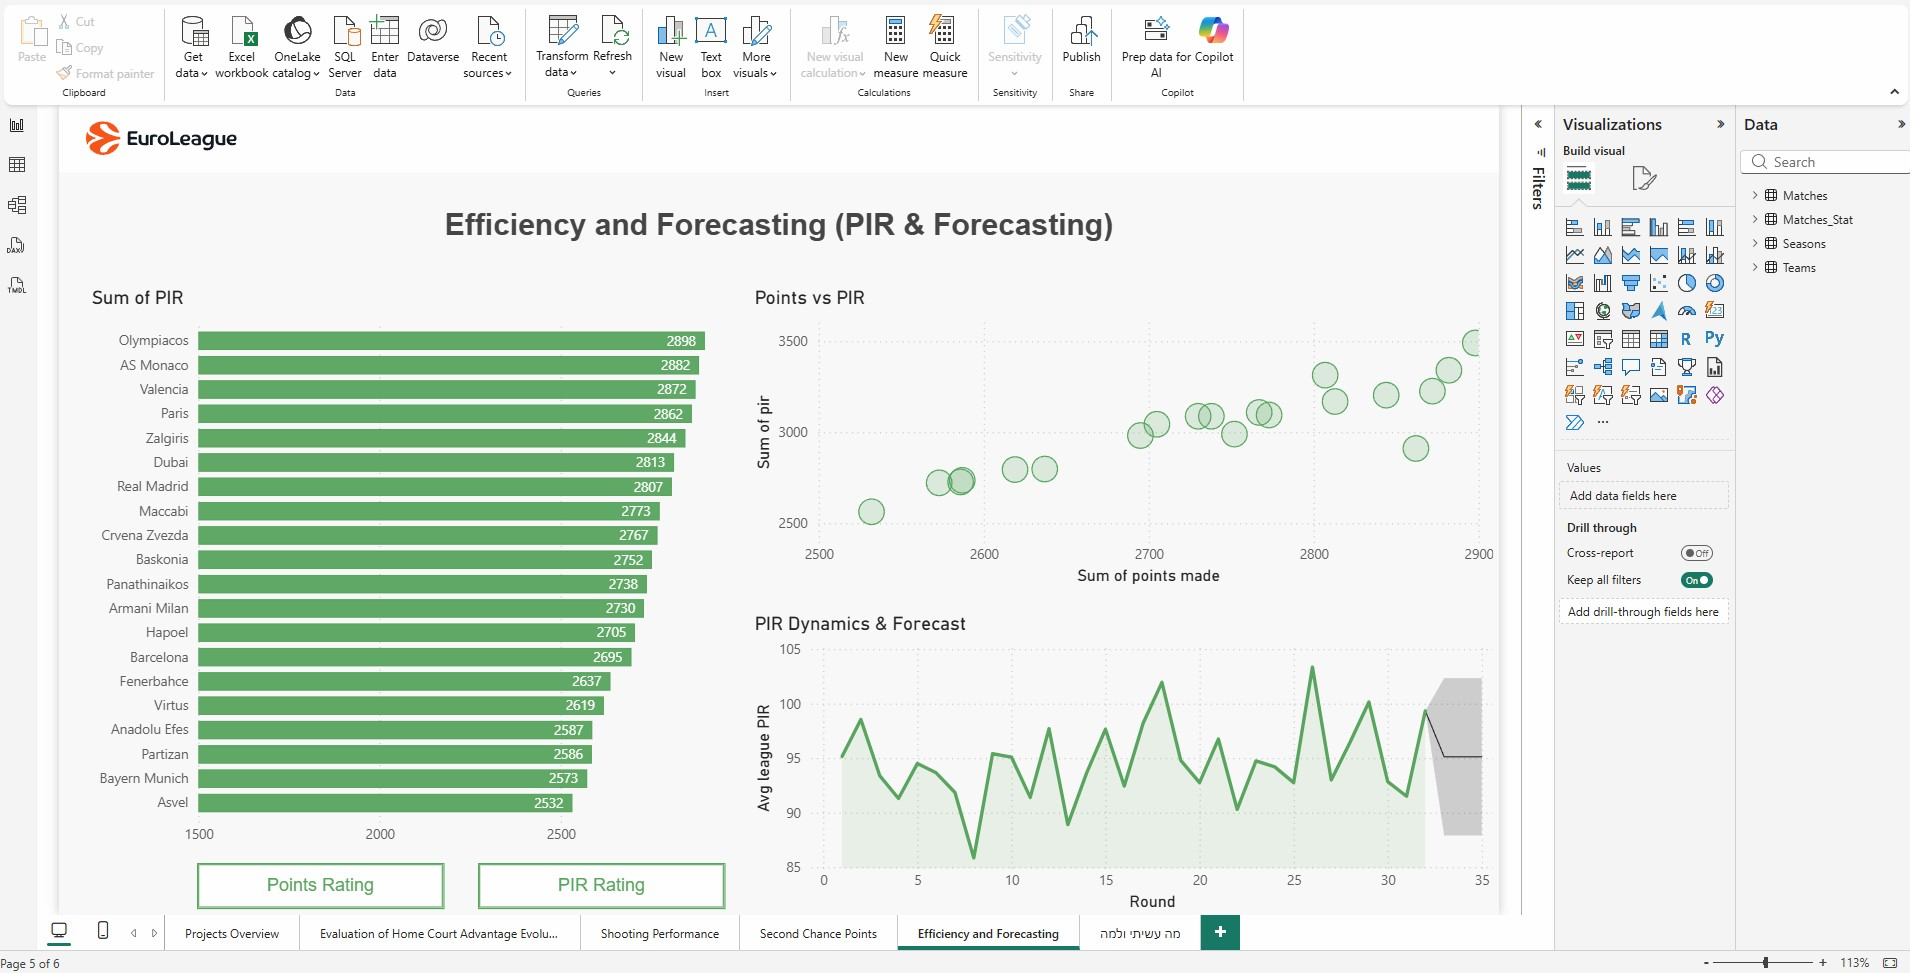

This screenshot's page, from the dashboard's own definition file:
{"tool":"powerbi","page":{"name":"Efficiency and Forecasting","canvas":[1280,720],"ordinal":3},"visuals":[{"type":"scatterChart","title":"Points vs PIR","fields":{"X":["Sum(Matches_Stat.points made)"],"Y":["Sum(Matches_Stat.pir)"],"Category":["Matches_Stat.Slicer_Team"]},"box":[613.5,160.8,666.5,270],"z":0},{"type":"lineChart","title":"PIR Dynamics & Forecast","fields":{"Category":["Matches.Round_ID"],"Y":["Avg(Matches_Stat.pir)"]},"box":[613.6,450.3,666.4,269.8],"z":1000},{"type":"shape","box":[0,0,1280,60],"z":3000},{"type":"image","box":[24.1,12.5,134.5,34],"z":4000},{"type":"textbox","box":[0,89.6,1280,41.5],"z":5000},{"type":"clusteredBarChart","title":"Sum of PIR","fields":{"Category":["Matches_Stat.Slicer_Team"],"Y":["Sum(Matches_Stat.points made)"]},"box":[24,160.5,568.1,505.5],"z":6000},{"type":"actionButton","title":"Points Rating Btn","box":[123,673.4,219.6,40.6],"z":7000},{"type":"actionButton","title":"PIR Rating Btn","box":[372.2,673.4,219.6,40.6],"z":8000}]}

Visuals, with their boxes on the page's 1280x720 design canvas (x1, y1, x2, y2). These are canvas units, not pixel positions in the 1910x973 screenshot, which may show the page scaled, cropped or inside an application window:
"Points vs PIR" scatterChart: rect(614, 161, 1280, 431)
"PIR Dynamics & Forecast" lineChart: rect(614, 450, 1280, 720)
shape: rect(0, 0, 1280, 60)
image: rect(24, 12, 159, 46)
textbox: rect(0, 90, 1280, 131)
"Sum of PIR" clusteredBarChart: rect(24, 160, 592, 666)
"Points Rating Btn" actionButton: rect(123, 673, 343, 714)
"PIR Rating Btn" actionButton: rect(372, 673, 592, 714)
